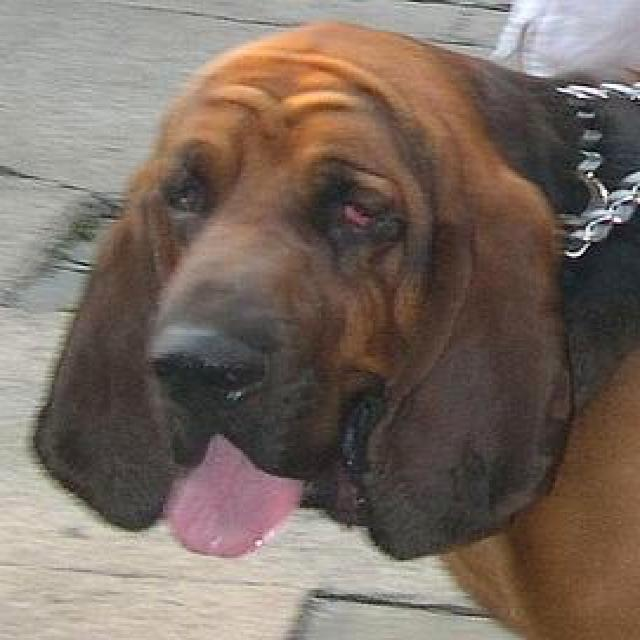bloodhound: (26, 16, 640, 638)
